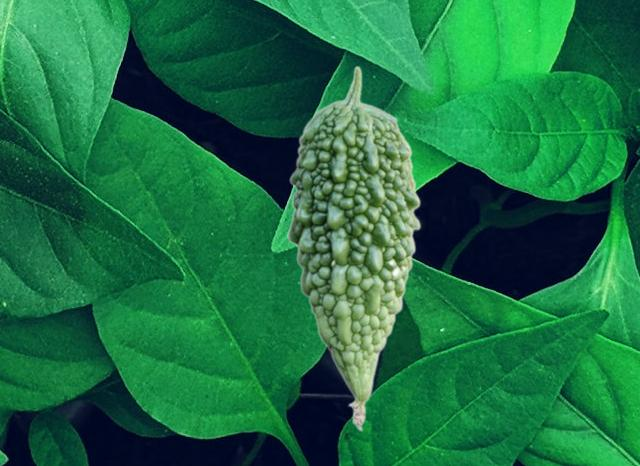ampalaya: (286, 65, 420, 431)
